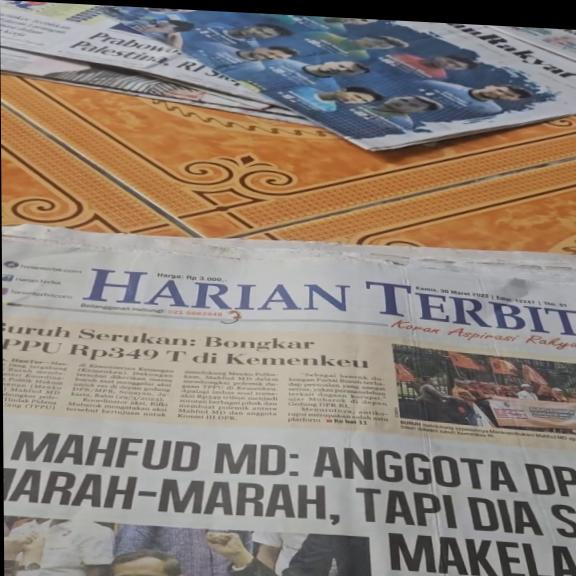Kertas: (7, 228, 567, 576), (2, 3, 291, 118)
